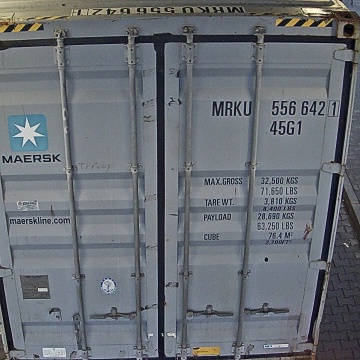serial_id: (212, 100, 337, 116)
